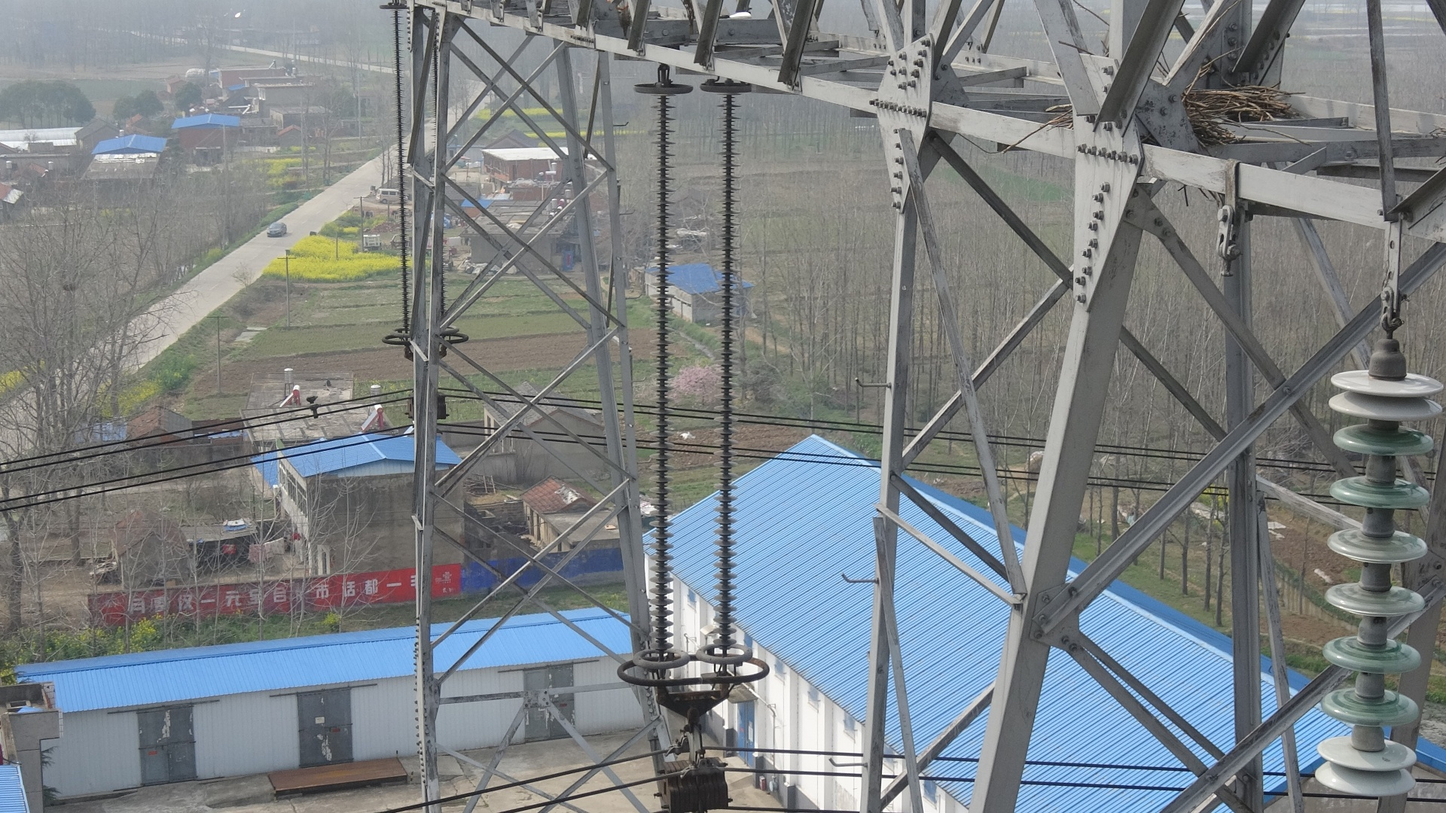insulator: (1307, 362, 1446, 803), (641, 96, 682, 657), (707, 99, 743, 652), (385, 11, 414, 330)
